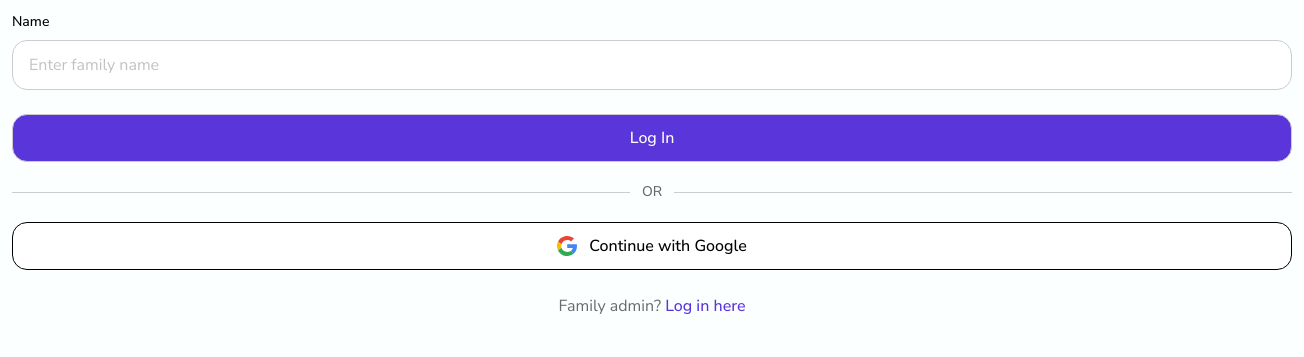
LoginForm › asks for a family name before going on
Click the button "Log In".
click(652, 138)  # box [12,114,1292,162]
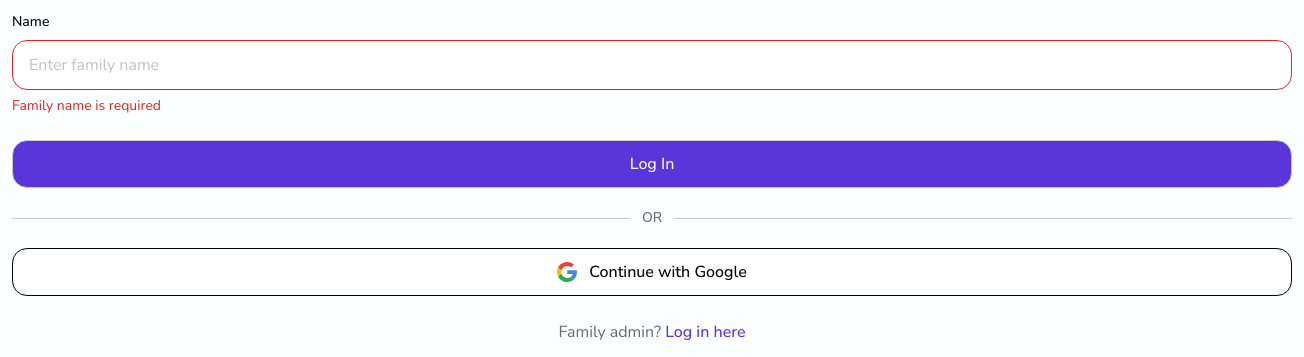
expect the text "Family name is required" is shown: met, box [12,96,161,115]
